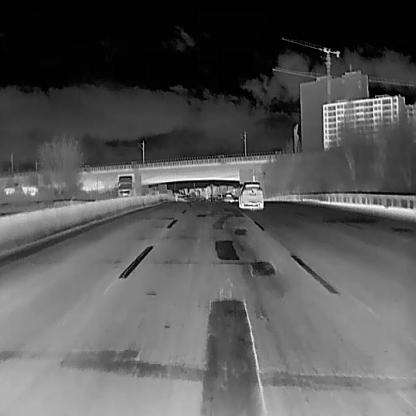car: (237, 180, 263, 208), (224, 192, 234, 202)
truck: (115, 171, 140, 195)
